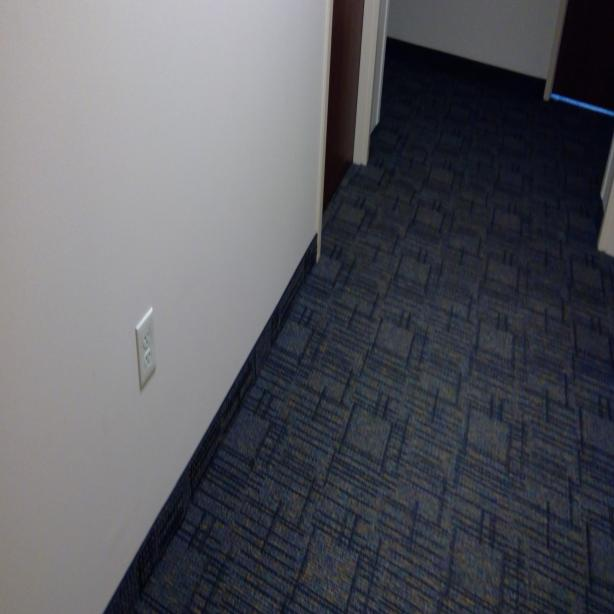typeb: (142, 350, 153, 366), (142, 331, 150, 346)
